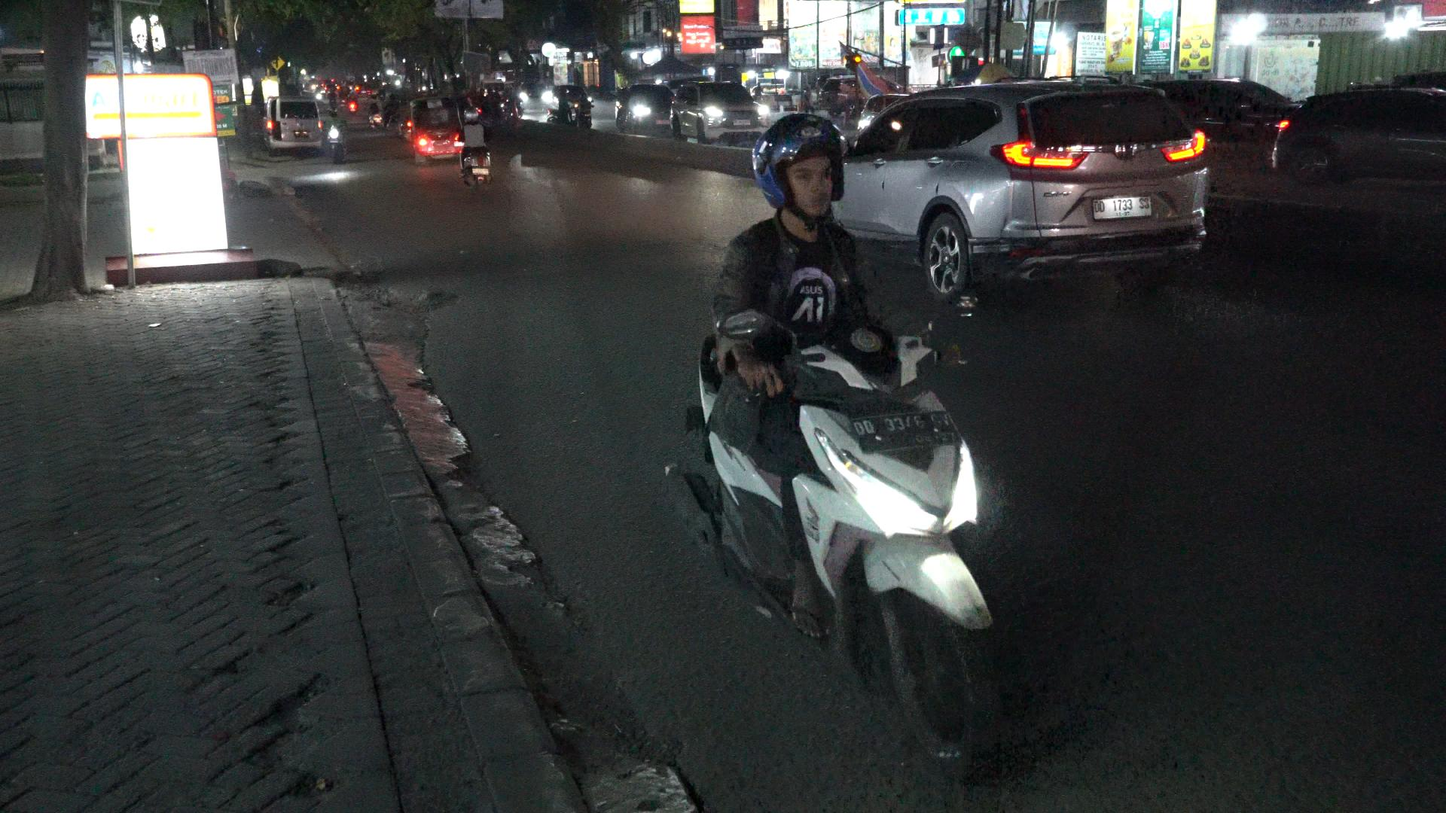number-plate: (844, 403, 965, 453)
